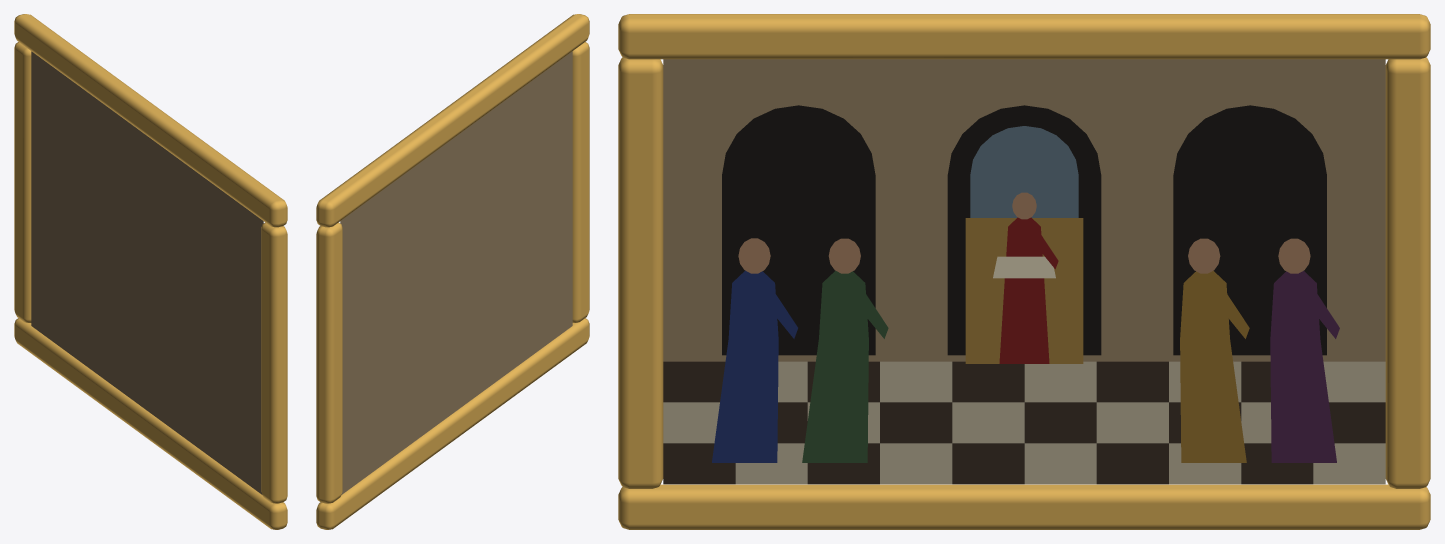
Rendered from painting_renaissance_b.glb.
The picture shows the model from 3 angles, left to right: view 1: azimuth 30°, elevation 25°; view 2: azimuth 150°, elevation 25°; view 3: azimuth 270°, elevation 25°; orthographic projection. The views are drawn at different scales.
Visible parts, largest first — view 1: grund, rahmen, rahmen.001, rahmen.003, rahmen.002; view 2: grund, rahmen, rahmen.001, rahmen.002, rahmen.003; view 3: grund, rahmen, rahmen.001, bogen2, bogen0, rahmen.002, rahmen.003, bogen1, thron, zuh0, zuh1, zuh3 (+34 smaller).
Boxes of the visible parts, x1=… form: grund: x1=31, y1=51, x2=263, y2=494; rahmen: x1=14, y1=14, x2=287, y2=227; rahmen.001: x1=14, y1=318, x2=287, y2=529; rahmen.003: x1=261, y1=222, x2=287, y2=503; rahmen.002: x1=14, y1=42, x2=31, y2=322; grund: x1=340, y1=51, x2=572, y2=494; rahmen: x1=316, y1=14, x2=589, y2=227; rahmen.001: x1=316, y1=318, x2=589, y2=529; rahmen.002: x1=316, y1=222, x2=342, y2=503; rahmen.003: x1=572, y1=42, x2=589, y2=322; grund: x1=663, y1=59, x2=1385, y2=361; rahmen: x1=618, y1=14, x2=1430, y2=59; rahmen.001: x1=618, y1=484, x2=1430, y2=529; bogen2: x1=1173, y1=105, x2=1326, y2=355; bogen0: x1=722, y1=105, x2=875, y2=355; rahmen.002: x1=1385, y1=57, x2=1430, y2=488; rahmen.003: x1=618, y1=57, x2=663, y2=488; bogen1: x1=947, y1=105, x2=1101, y2=355; thron: x1=965, y1=218, x2=1083, y2=363; zuh0: x1=712, y1=270, x2=778, y2=462; zuh1: x1=802, y1=270, x2=868, y2=462; zuh3: x1=1270, y1=271, x2=1336, y2=462.
Size of the model in its own units: 0.07 by 1.25 by 1.8.
